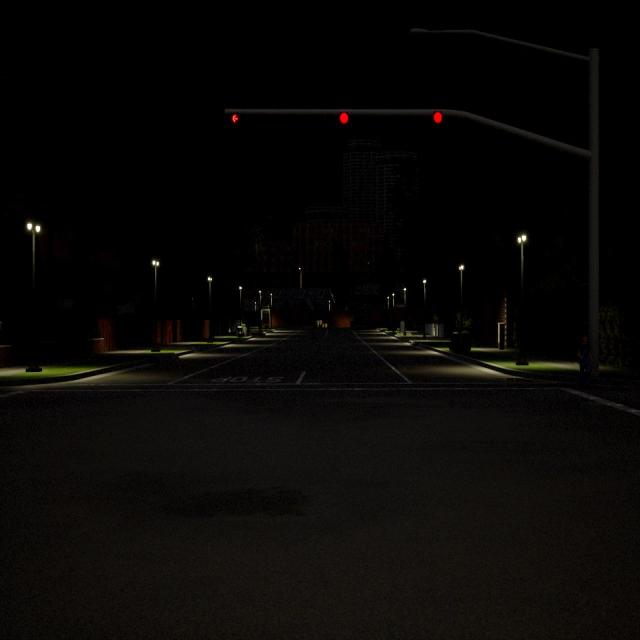Pedestrian: (578, 336, 592, 385)
traffic_light: (339, 112, 349, 124), (433, 111, 443, 123), (231, 114, 239, 123)
